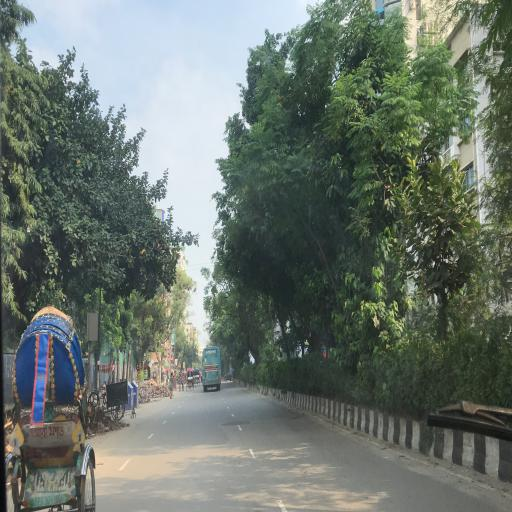bus: (203, 346, 222, 394)
car: (224, 371, 235, 383)
rickshaw: (8, 304, 99, 512), (187, 369, 196, 392), (196, 369, 201, 387), (177, 372, 182, 386)
wheelbarrow: (98, 381, 130, 422)
